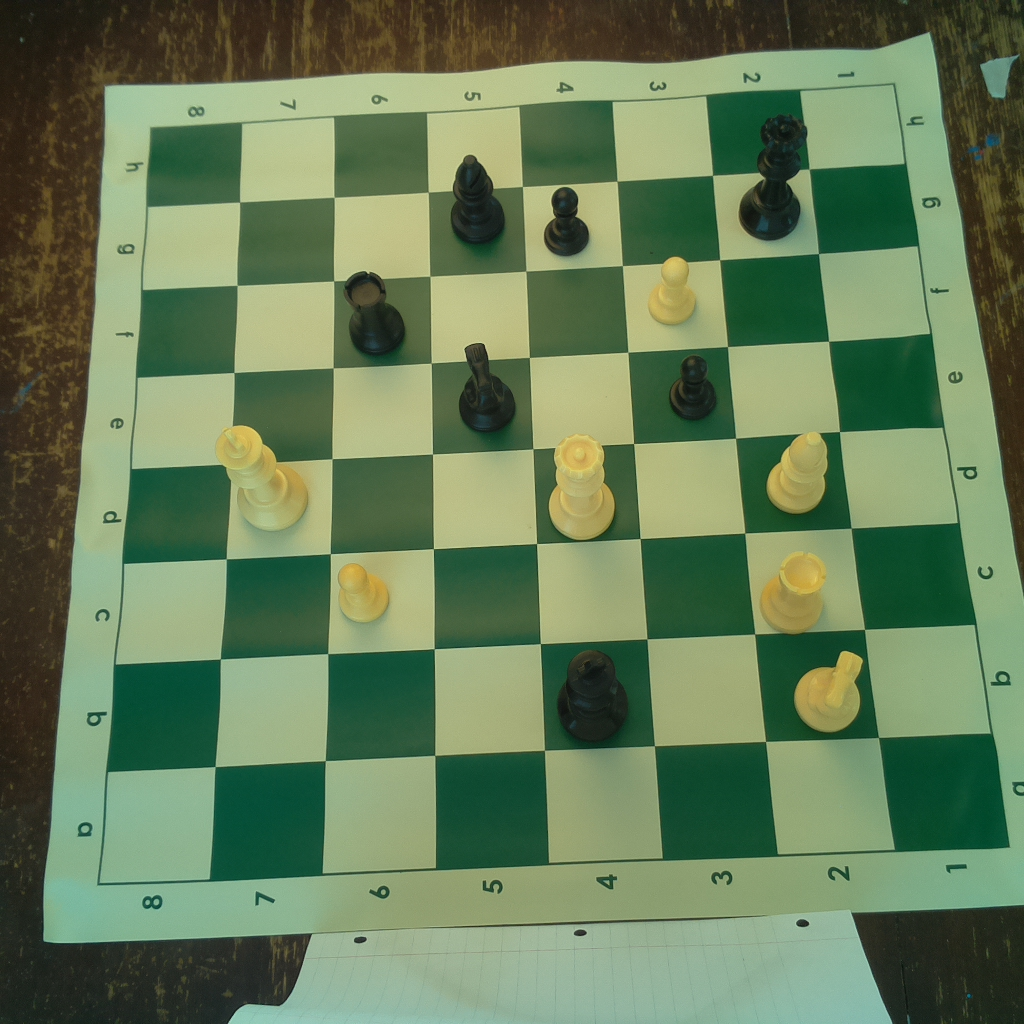black_bishop: (451, 149, 507, 248)
black_king: (550, 647, 634, 743)
black_knight: (453, 340, 521, 432)
black_pawn: (538, 182, 596, 262), (664, 349, 724, 423)
black_queen: (732, 112, 807, 241)
black_rook: (333, 269, 412, 356)
file_a: (101, 734, 1008, 886)
file_b: (105, 621, 992, 773)
file_c: (115, 523, 980, 664)
file_d: (124, 427, 959, 565)
file_e: (132, 334, 944, 470)
file_f: (138, 247, 929, 379)
file_g: (140, 165, 920, 292)
file_h: (145, 86, 906, 208)
outline: (97, 83, 1011, 888)
rank_1: (802, 82, 1008, 854)
rank_2: (707, 90, 893, 857)
rank_3: (612, 96, 780, 861)
rank_4: (519, 102, 666, 864)
rank_5: (425, 105, 551, 870)
rank_6: (319, 110, 437, 871)
rank_7: (211, 117, 336, 883)
rank_8: (97, 122, 242, 887)
white_bishop: (763, 427, 832, 514)
white_king: (211, 419, 314, 531)
white_knight: (792, 647, 867, 735)
white_pawn: (646, 251, 705, 325), (334, 560, 397, 621)
white_queen: (545, 432, 621, 545)
white_rook: (758, 547, 832, 638)
